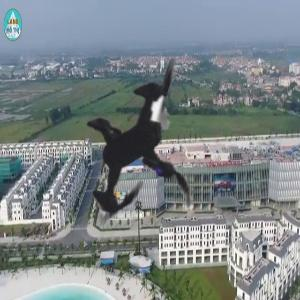drone: (5, 3, 288, 286)
